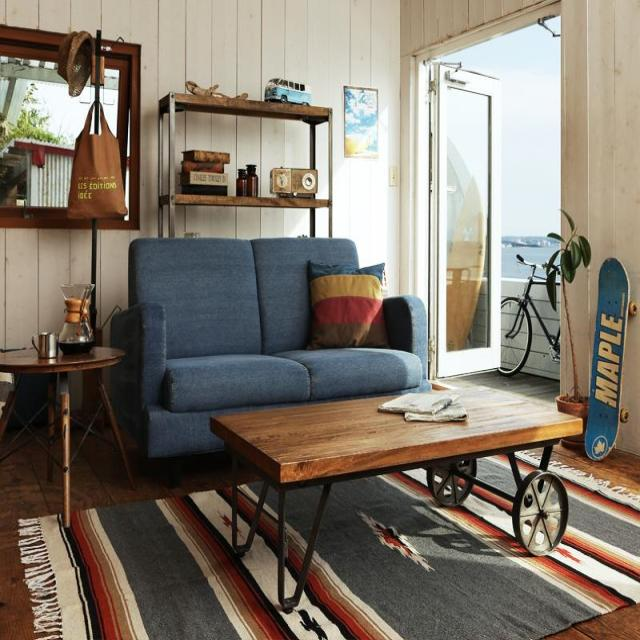vintage desk: (207, 384, 595, 609), (6, 342, 134, 534)
vintage shelf: (149, 90, 332, 238)
vintage sofa: (120, 238, 432, 405)
